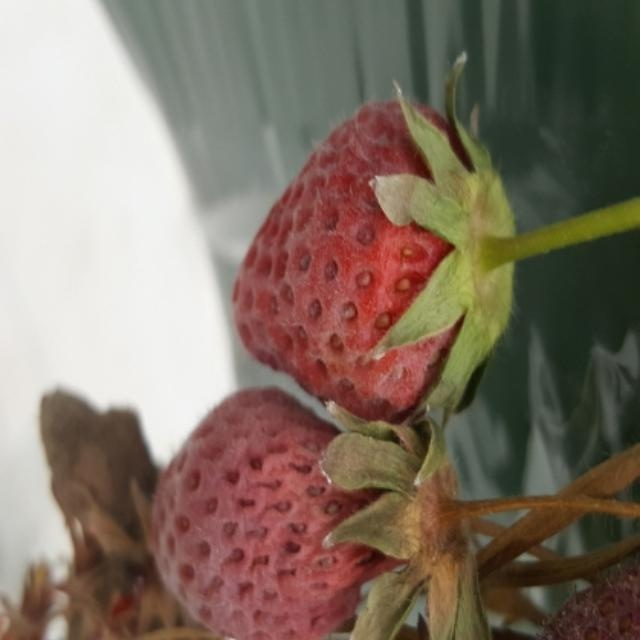Powdery Mildew Fruit: (231, 100, 498, 427), (150, 385, 435, 638)
